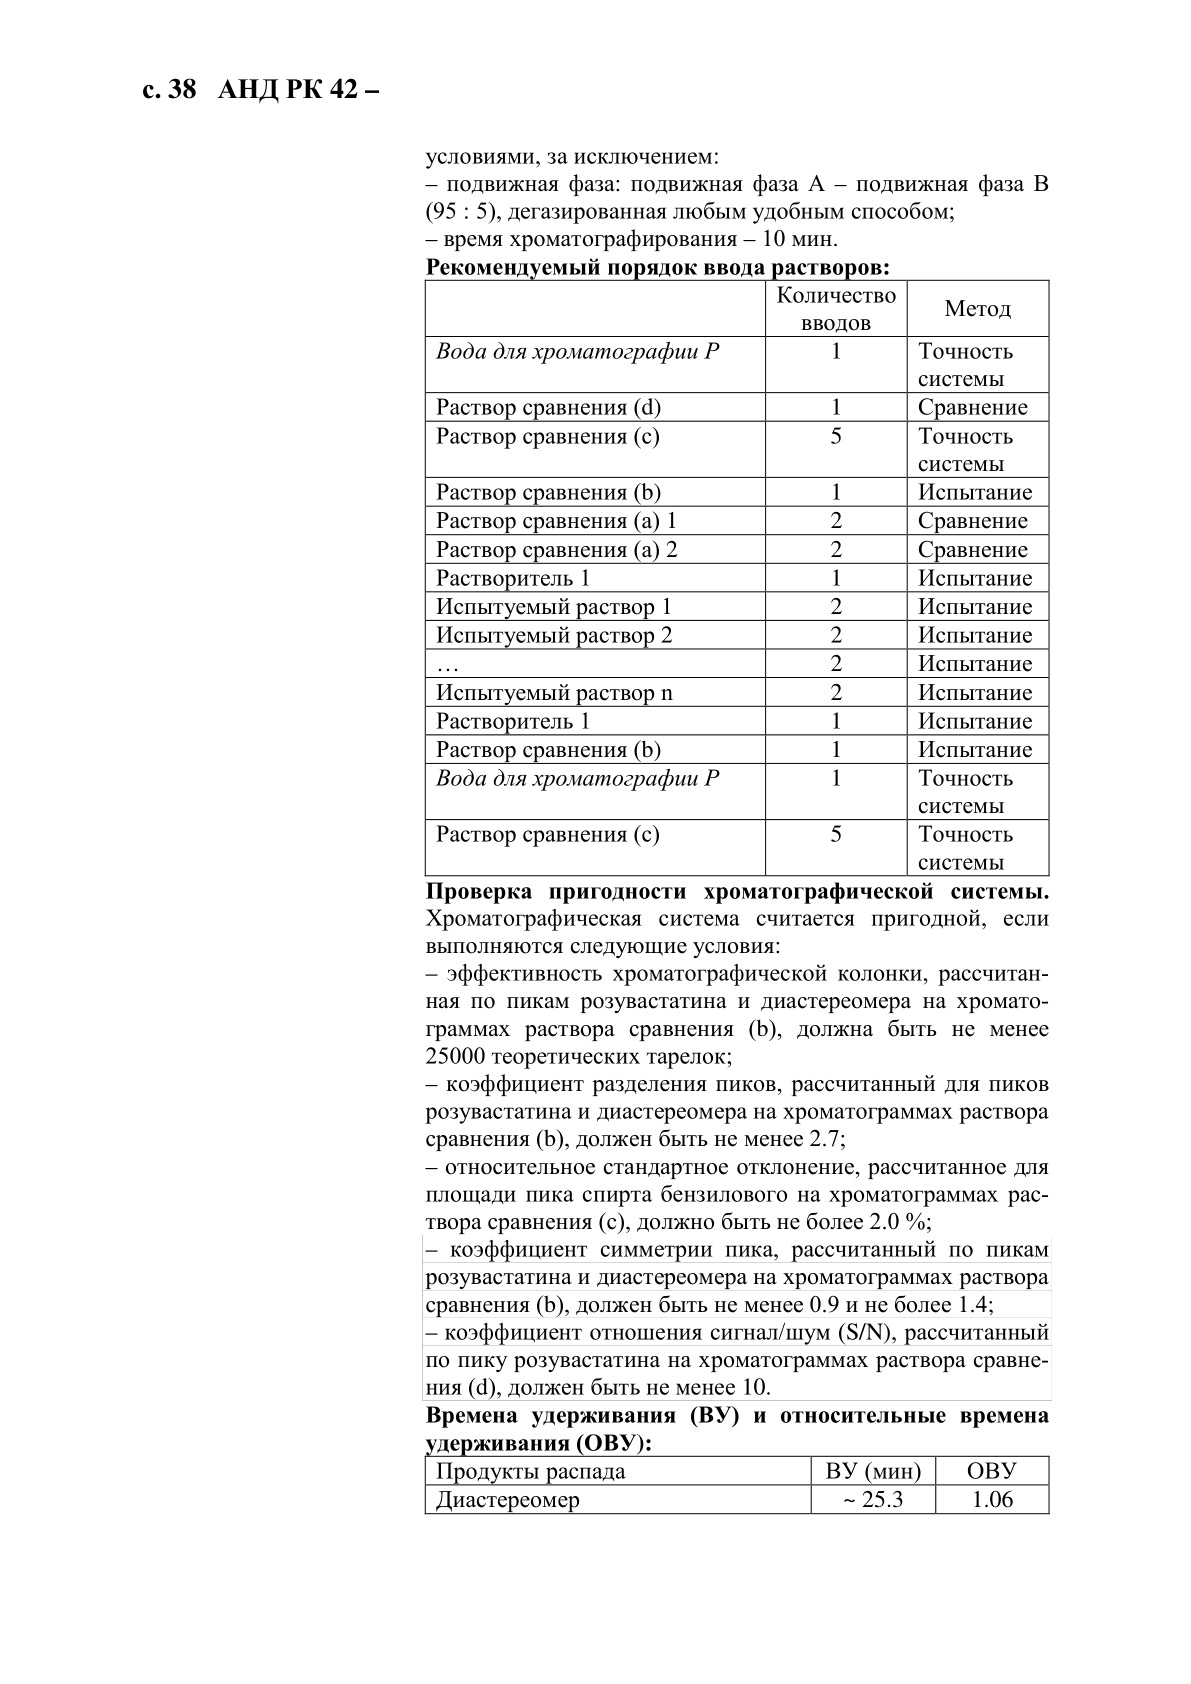full_lined: (424, 278, 1051, 877), (424, 1453, 1051, 1515)
